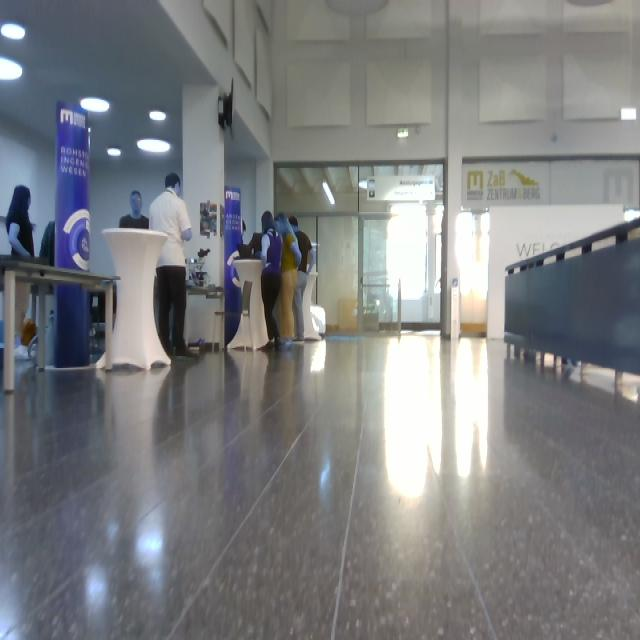door: (317, 215, 359, 335)
light bulb: (326, 1, 389, 17), (1, 56, 23, 81), (137, 138, 171, 153), (80, 97, 110, 113), (1, 22, 26, 41), (322, 181, 336, 205), (433, 205, 444, 234), (621, 108, 637, 121), (149, 110, 167, 121), (107, 146, 122, 157), (397, 128, 409, 138)
person: (149, 173, 199, 358), (6, 185, 36, 360), (274, 213, 303, 350), (288, 216, 315, 342), (260, 210, 283, 352), (119, 190, 150, 229)
pillar: (53, 101, 92, 368), (102, 228, 172, 372)
tiled floor: (1, 329, 639, 638)
